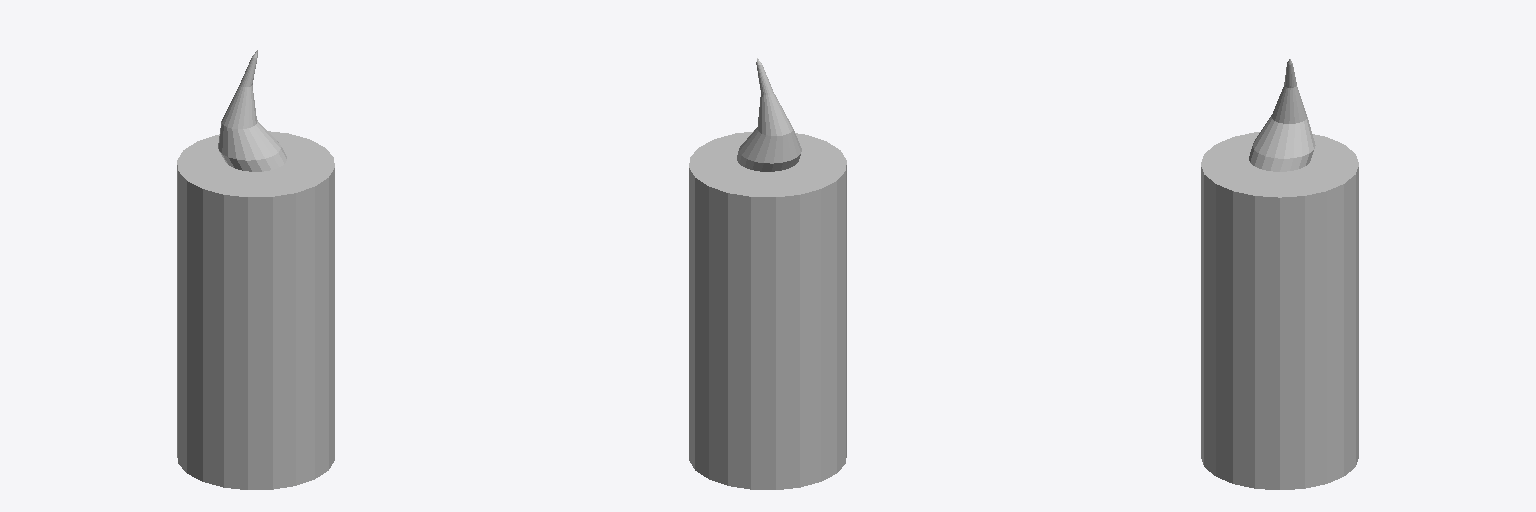
File: temp_candle.obj
3 views of the same model, side by side, from view 1: azimuth 30°, elevation 25°; view 2: azimuth 150°, elevation 25°; view 3: azimuth 270°, elevation 25° (orthographic).
Visible parts, largest first — view 1: pCylinder1; view 2: pCylinder1; view 3: pCylinder1.
Part boxes in pixels (left/top/right/bottom): pCylinder1: left=177, top=50, right=334, bottom=489; pCylinder1: left=689, top=58, right=846, bottom=489; pCylinder1: left=1201, top=59, right=1358, bottom=489.
Size of the model in its own units: 2 by 5.58 by 2.